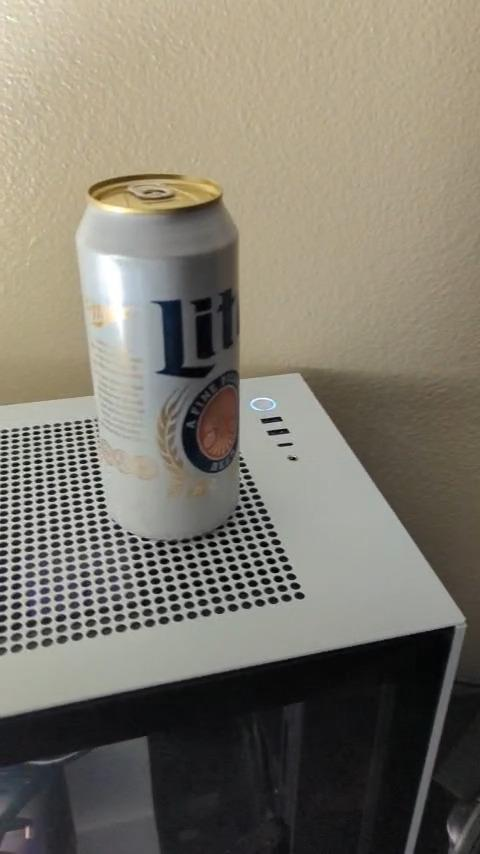metal: (77, 173, 240, 539)
